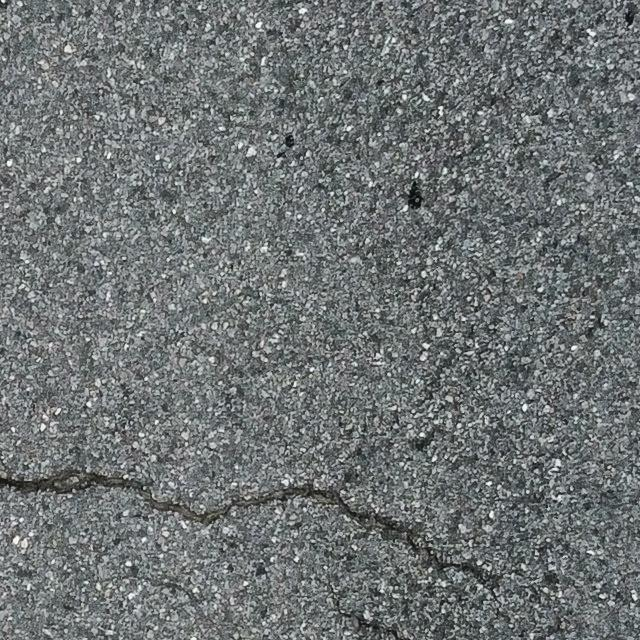TransverseCrack: (1, 470, 500, 591)
